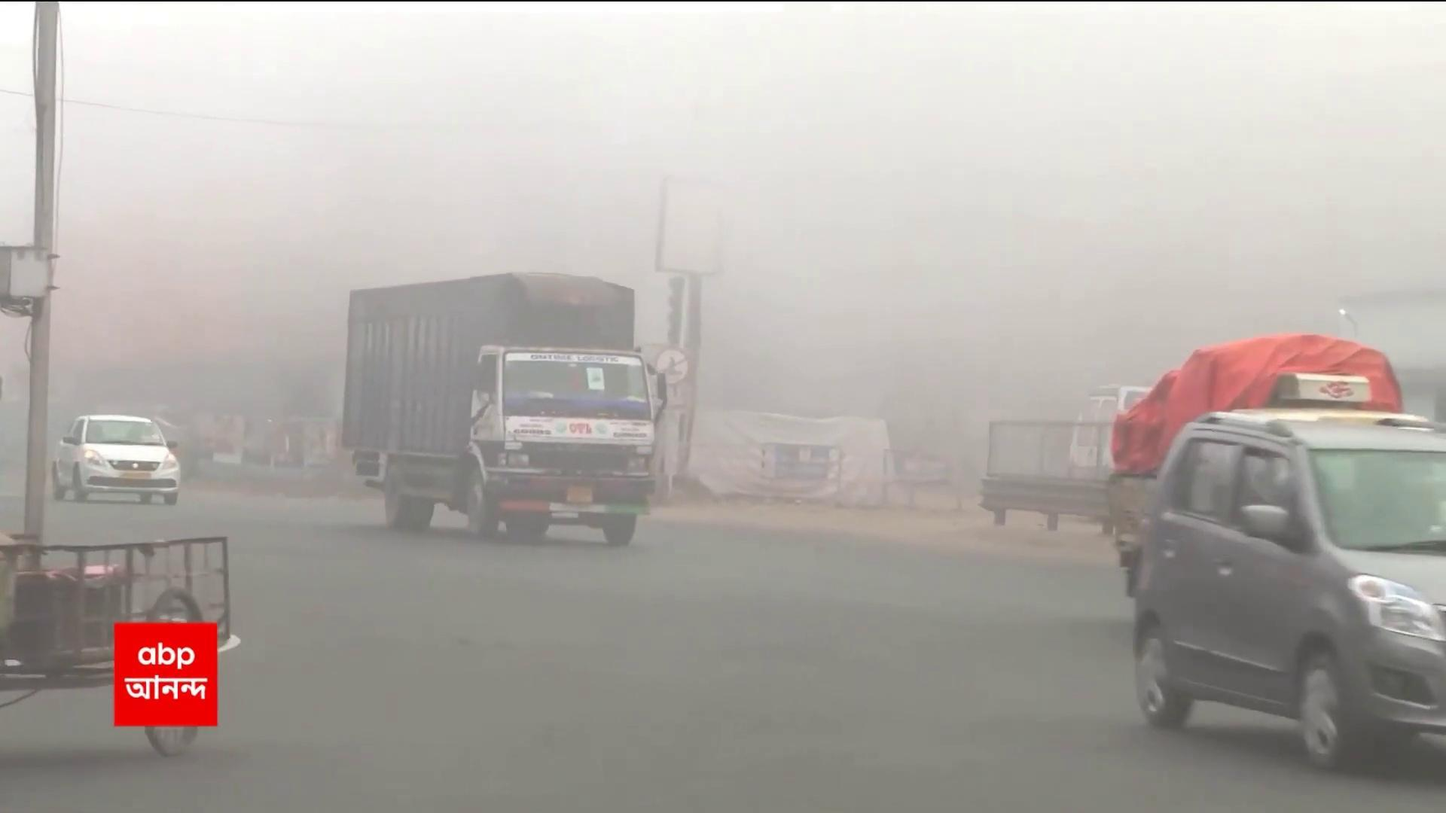Car: (1124, 407, 1446, 773), (49, 412, 182, 508)
Truck: (337, 266, 662, 547)
